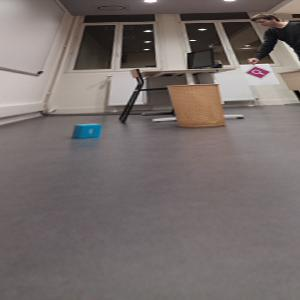search: (247, 66, 270, 79)
